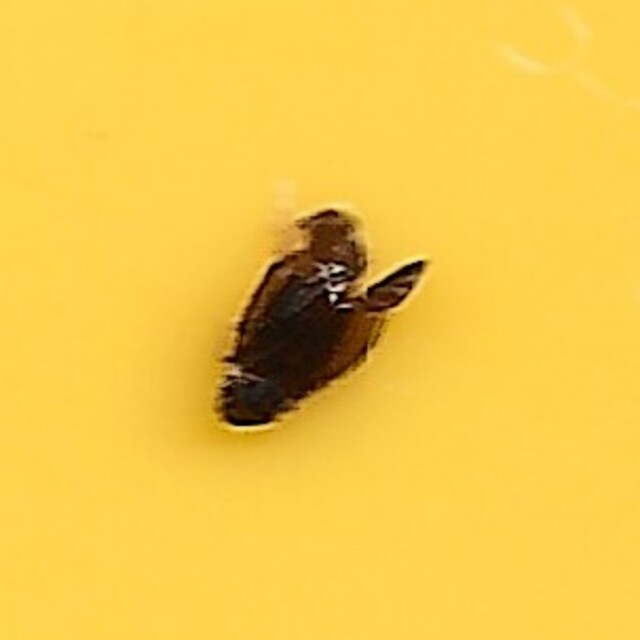Coleoptera: (211, 204, 429, 436)
